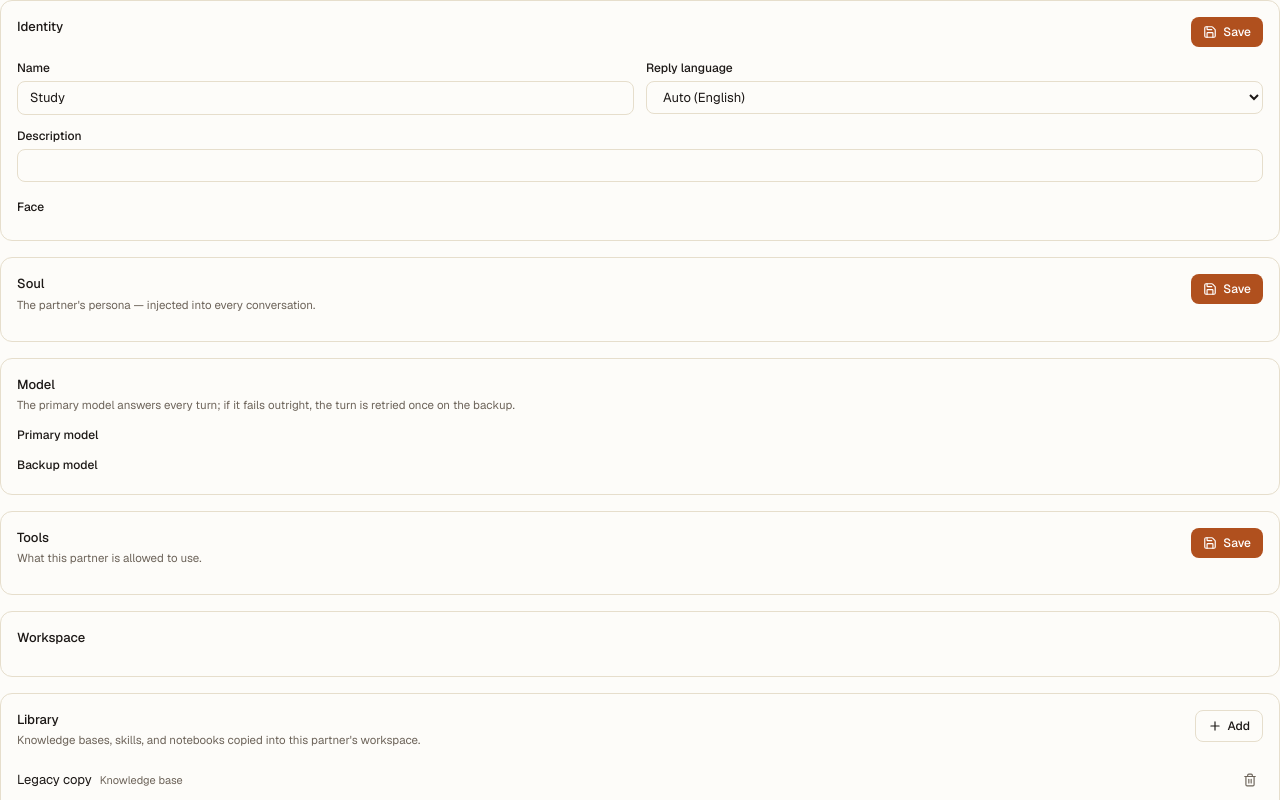
Test: removes Legacy copy by its reference or legacy name
The image size is (1280, 800).
Click the button named "Remove" at (1250, 780), box [1237, 766, 1263, 792]
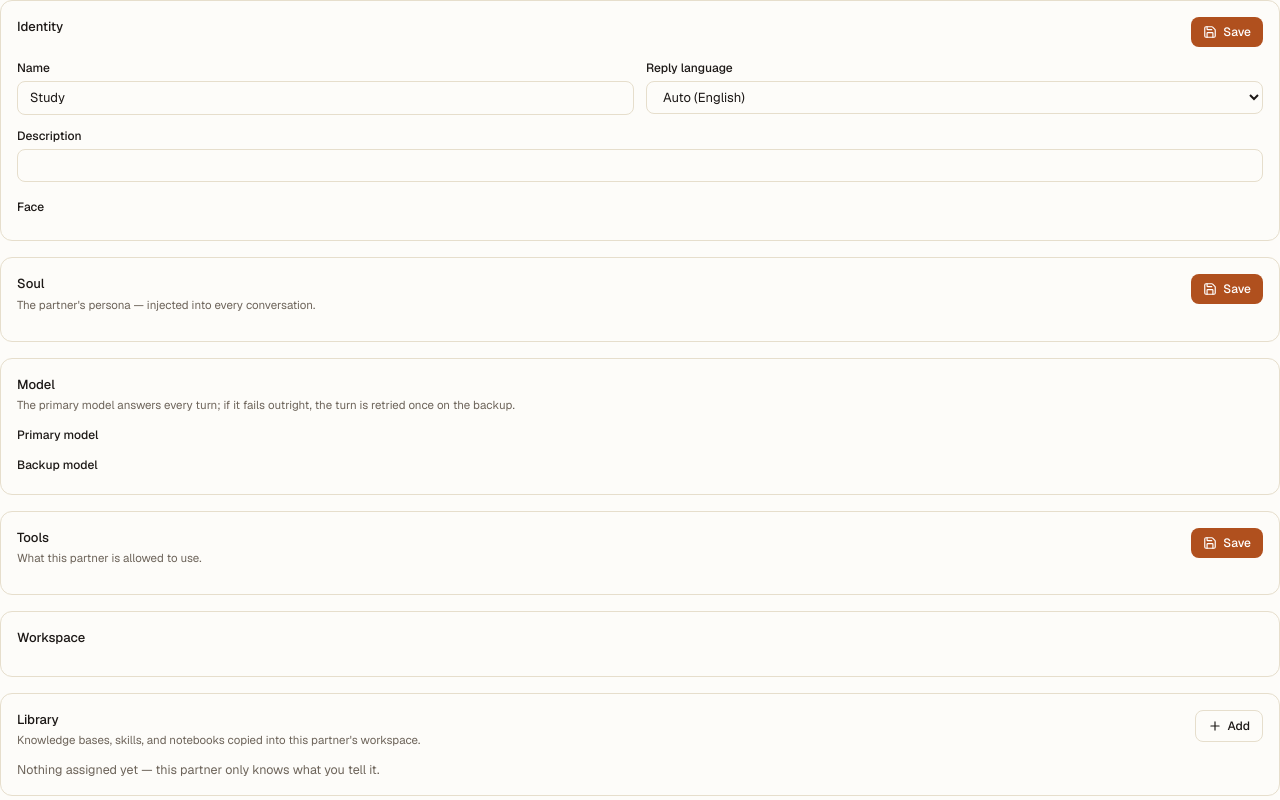
Expected: the text "Legacy copy" is gone
